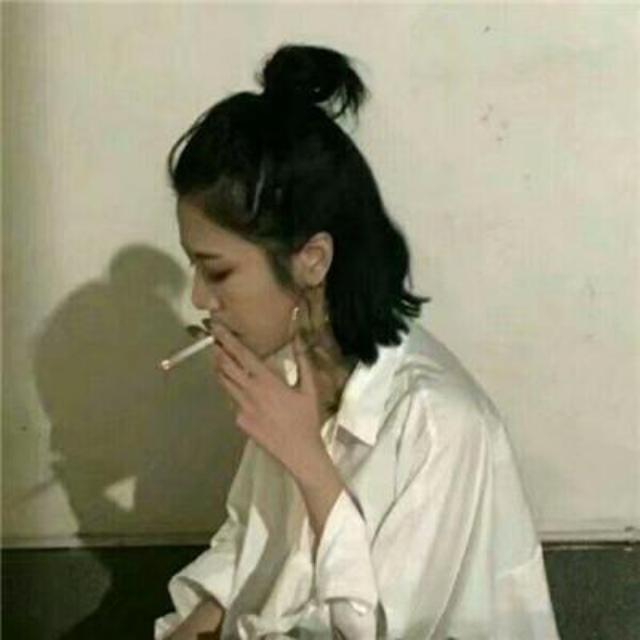Smoking: (152, 340, 214, 376)
